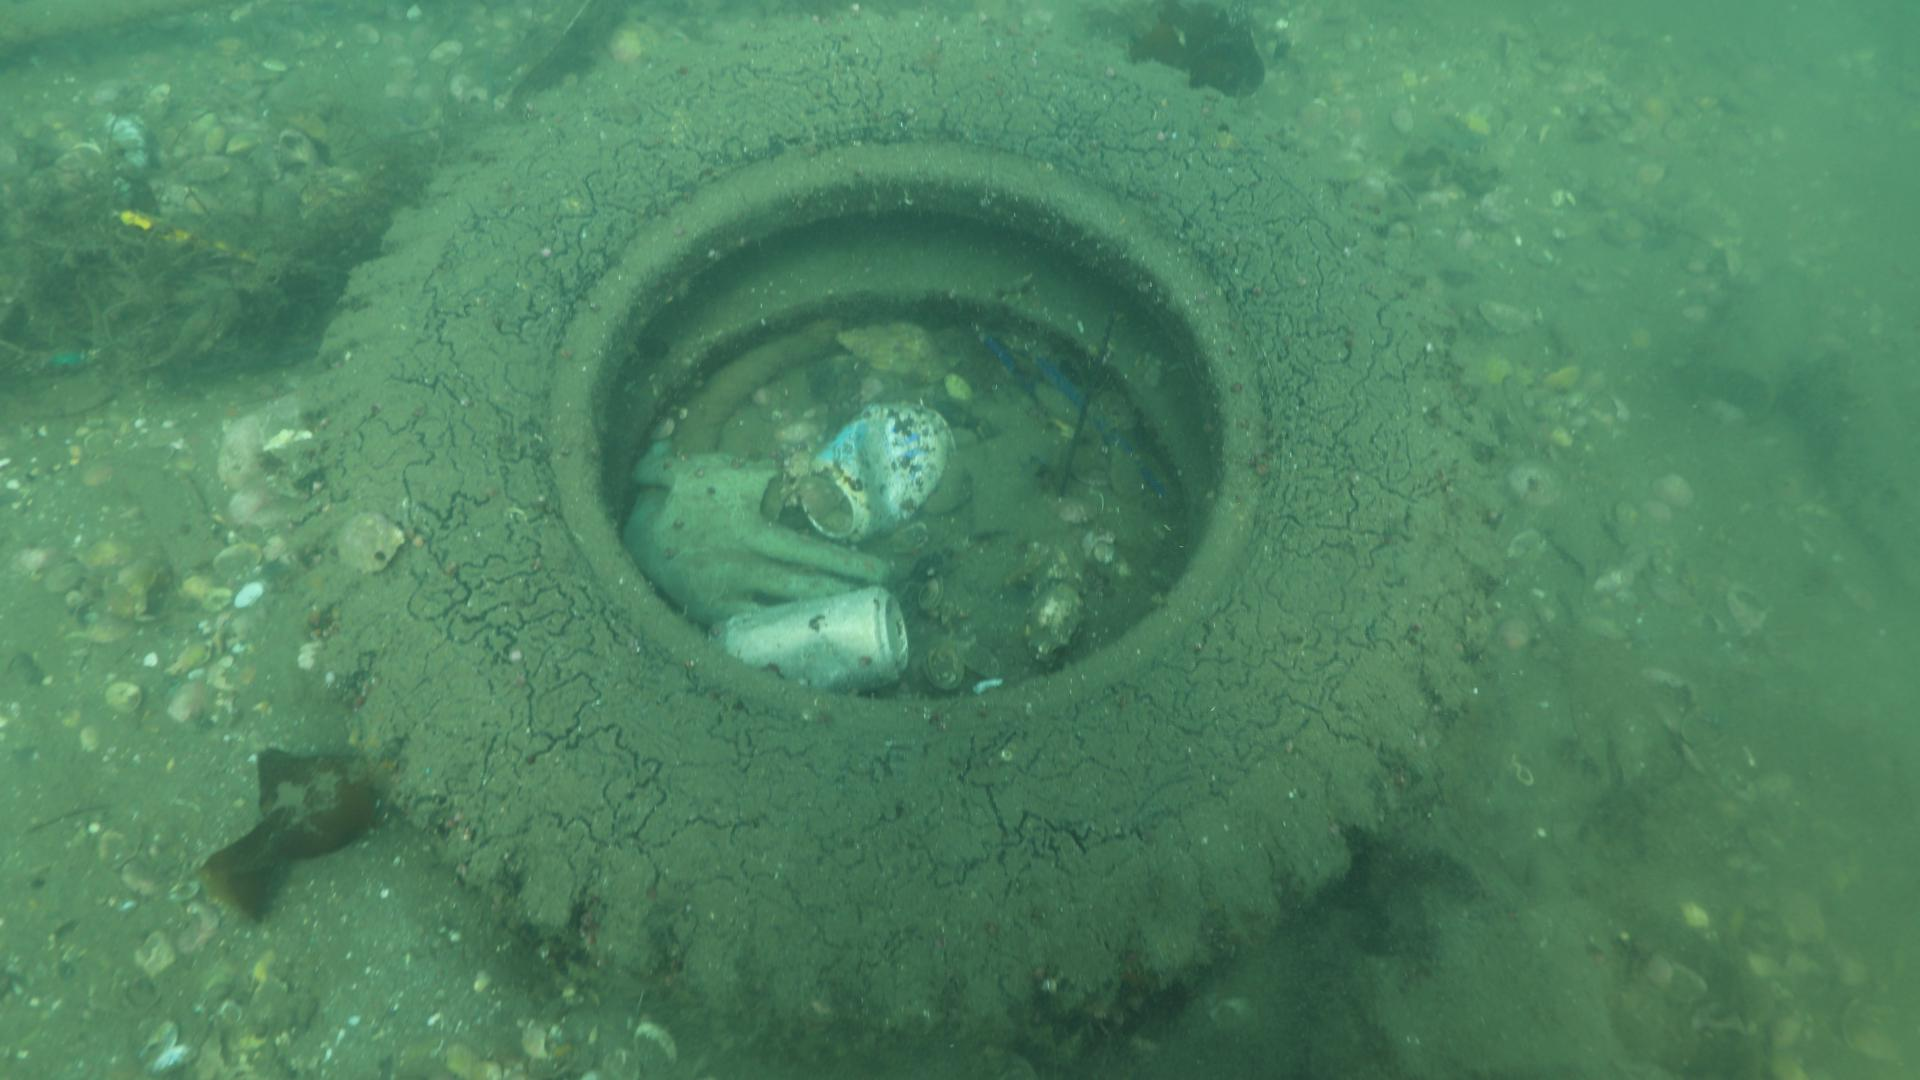tire: (293, 15, 1502, 1068)
